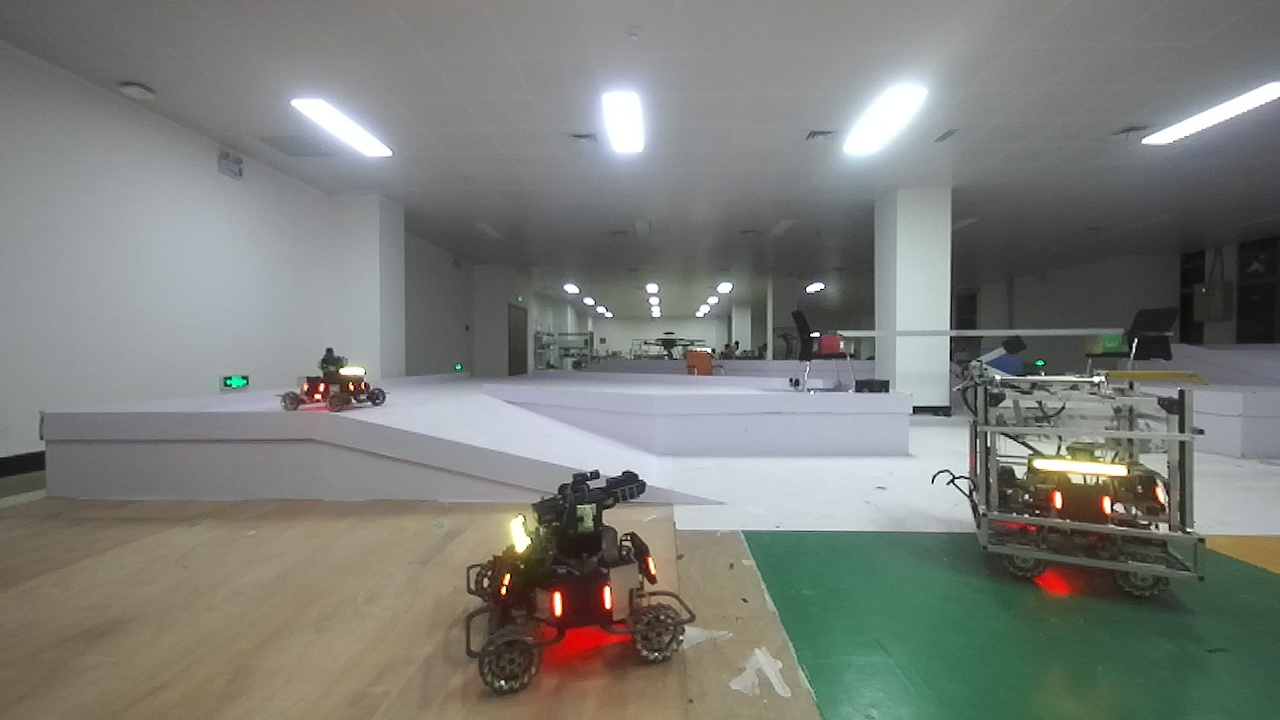car: (935, 345, 1229, 622), (467, 457, 694, 692), (278, 333, 417, 433)
